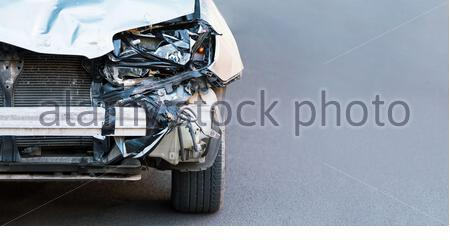bonnet-dent: (0, 2, 193, 61)
